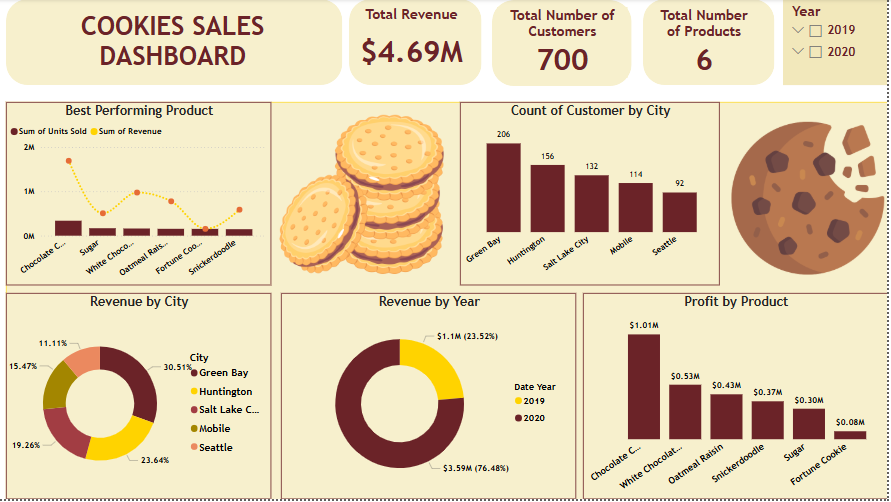

The dashboard page shown, as its layout file describes it:
{"tool":"powerbi","page":{"name":"Page 2","canvas":[1280,720],"ordinal":0},"visuals":[{"type":"shape","box":[10.1,147.8,1269.9,572.8],"z":0},{"type":"shape","box":[503.9,0,191.5,124.3],"z":1000},{"type":"shape","box":[10.1,0,485.5,124.3],"z":2000},{"type":"shape","box":[710.6,1.7,201.6,124.3],"z":3000},{"type":"shape","box":[927.2,0,189.8,124.3],"z":4000},{"type":"textbox","box":[23,11.5,453.6,102.2],"z":5000},{"type":"image","box":[391.7,87.8,260.6,387.4],"z":6000},{"type":"lineClusteredColumnComboChart","title":"Best Performing Product","fields":{"Category":["Orders.Product"],"Y":["Sum(Orders.Units Sold)"],"Y2":["Sum(Orders.Revenue)"]},"box":[10.1,148.3,381.6,263.5],"z":7000},{"type":"columnChart","title":"Count of Customer by City","fields":{"Category":["Customers.City"],"Y":["CountNonNull(Orders.Customer ID)"]},"box":[663.8,148.3,374.4,263.5],"z":8000},{"type":"donutChart","title":"Revenue by City","fields":{"Y":["Sum(Orders.Revenue)"],"Category":["Customers.City"]},"box":[10.1,423.4,381.6,296.6],"z":9000},{"type":"image","box":[1049.8,123.8,230.4,326.9],"z":10000},{"type":"donutChart","title":"Revenue by Year","fields":{"Category":["Orders.Date.Variation.Date Hierarchy.Year"],"Y":["Sum(Orders.Revenue)"]},"box":[406.1,423.4,424.8,296.6],"z":11000},{"type":"card","title":"Total Revenue","fields":{"Values":["Sum(Orders.Revenue)"]},"box":[514,10.1,159.6,104.1],"z":12000},{"type":"columnChart","title":"Profit by Product","fields":{"Category":["Orders.Product"],"Y":["Sum(Orders.Profit)"]},"box":[841,423.4,439.2,296.6],"z":13000},{"type":"card","title":"Total Number of Customers","fields":{"Values":["CountNonNull(Orders.Customer ID)"]},"box":[717.3,11.8,188.1,102.5],"z":14000},{"type":"card","title":"Total Number of Products","fields":{"Values":["Count(Orders.Product)"]},"box":[939,11.8,152.9,102.5],"z":15000},{"type":"slicer","fields":{"Values":["Orders.Date.Variation.Date Hierarchy.Year","Orders.Date.Variation.Date Hierarchy.Quarter","Orders.Date.Variation.Date Hierarchy.Month"]},"box":[1128.8,0,151.2,124.3],"z":16000}]}

Visuals, with their boxes in screenshot pixels (x1, y1, x2, y2), scaled from the page's 1280x720 canvas onto the 891x502 screenshot:
shape: {"left": 7, "top": 103, "right": 890, "bottom": 501}
shape: {"left": 351, "top": 0, "right": 484, "bottom": 87}
shape: {"left": 7, "top": 0, "right": 345, "bottom": 87}
shape: {"left": 495, "top": 1, "right": 635, "bottom": 88}
shape: {"left": 645, "top": 0, "right": 778, "bottom": 87}
textbox: {"left": 16, "top": 8, "right": 332, "bottom": 79}
image: {"left": 273, "top": 61, "right": 454, "bottom": 331}
"Best Performing Product" lineClusteredColumnComboChart: {"left": 7, "top": 103, "right": 273, "bottom": 287}
"Count of Customer by City" columnChart: {"left": 462, "top": 103, "right": 723, "bottom": 287}
"Revenue by City" donutChart: {"left": 7, "top": 295, "right": 273, "bottom": 501}
image: {"left": 731, "top": 86, "right": 890, "bottom": 314}
"Revenue by Year" donutChart: {"left": 283, "top": 295, "right": 578, "bottom": 501}
"Total Revenue" card: {"left": 358, "top": 7, "right": 469, "bottom": 80}
"Profit by Product" columnChart: {"left": 585, "top": 295, "right": 890, "bottom": 501}
"Total Number of Customers" card: {"left": 499, "top": 8, "right": 630, "bottom": 80}
"Total Number of Products" card: {"left": 654, "top": 8, "right": 760, "bottom": 80}
slicer - Orders.Date.Variation.Date Hierarchy.Year x Orders.Date.Variation.Date Hierarchy.Quarter: {"left": 786, "top": 0, "right": 890, "bottom": 87}
